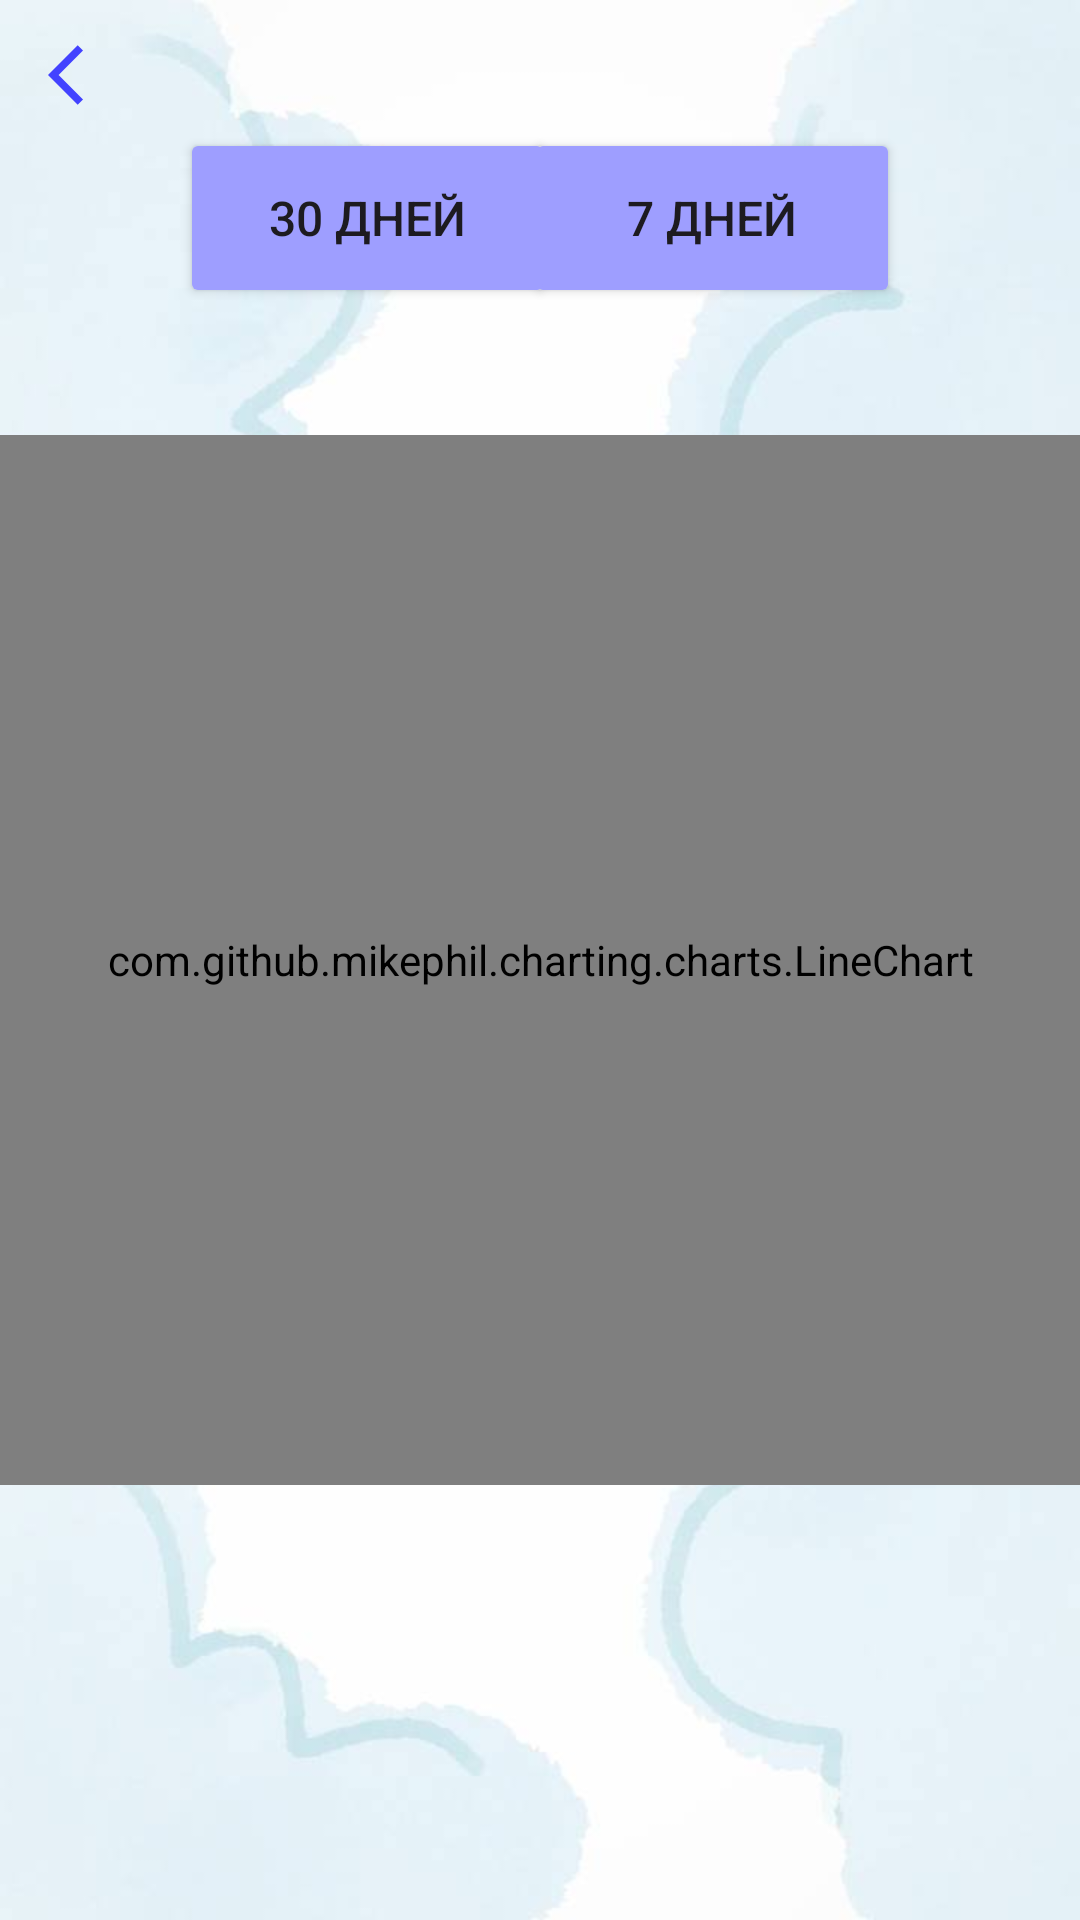

Icons on this 1080px×1920px Android screen, each with the point to tap as (x=x, y=y):
Кнопка назад: (x=65, y=75)
